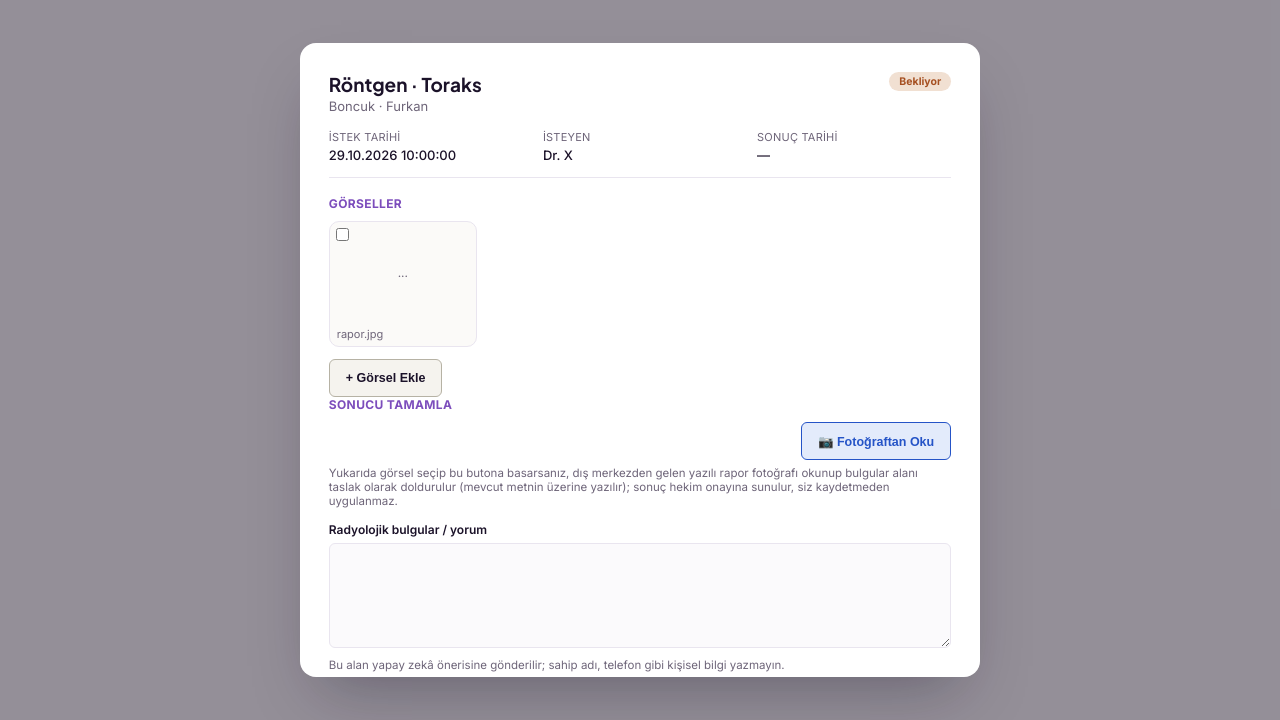
ImagingRecordDetailModal — fotograftan okuma (2026-10-29) › selecting a thumbnail enables the button, and clicking fills the findings field from OCR
The width and height of the screenshot is (1280, 720).
Click the checkbox named "Fotoğraftan Oku için seç" at (342, 234), box [336,228,349,241]
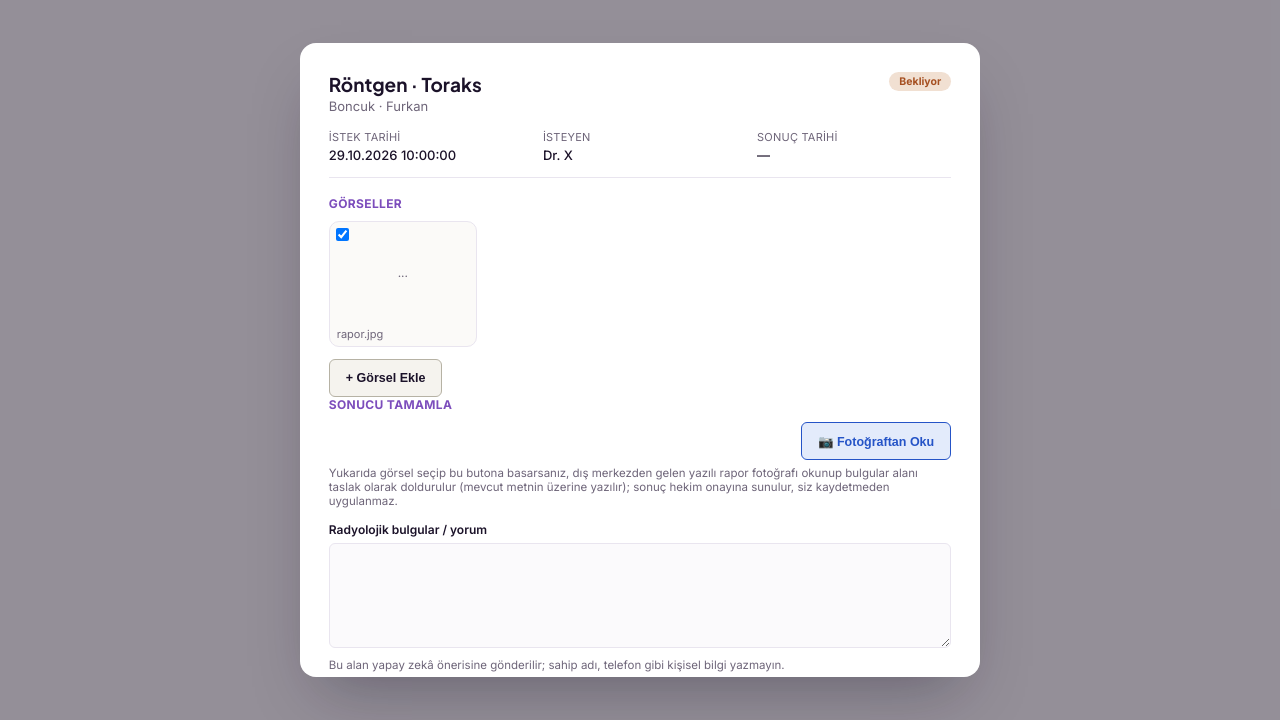
Click the button "📷 Fotoğraftan Oku" at (876, 441), box [801,422,951,460]
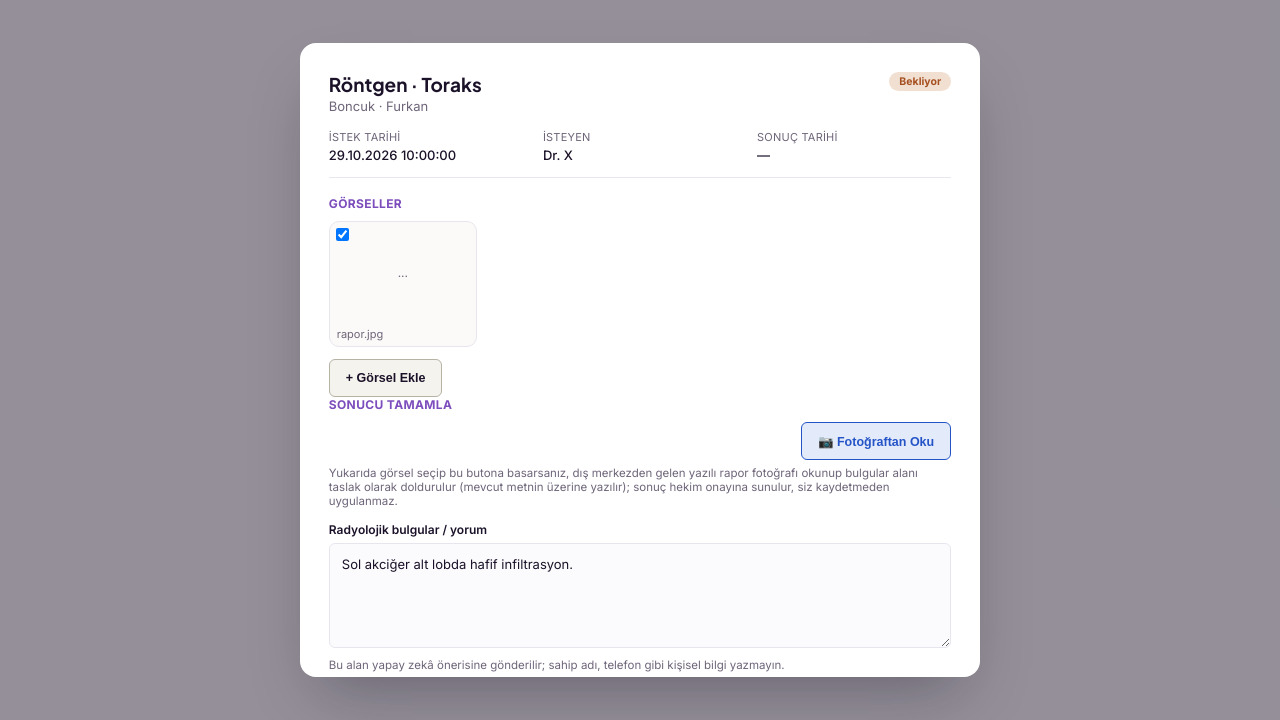
Check: the text box holds "Sol akciğer alt lobda hafif infiltrasyon.", box [329,543,951,648]
